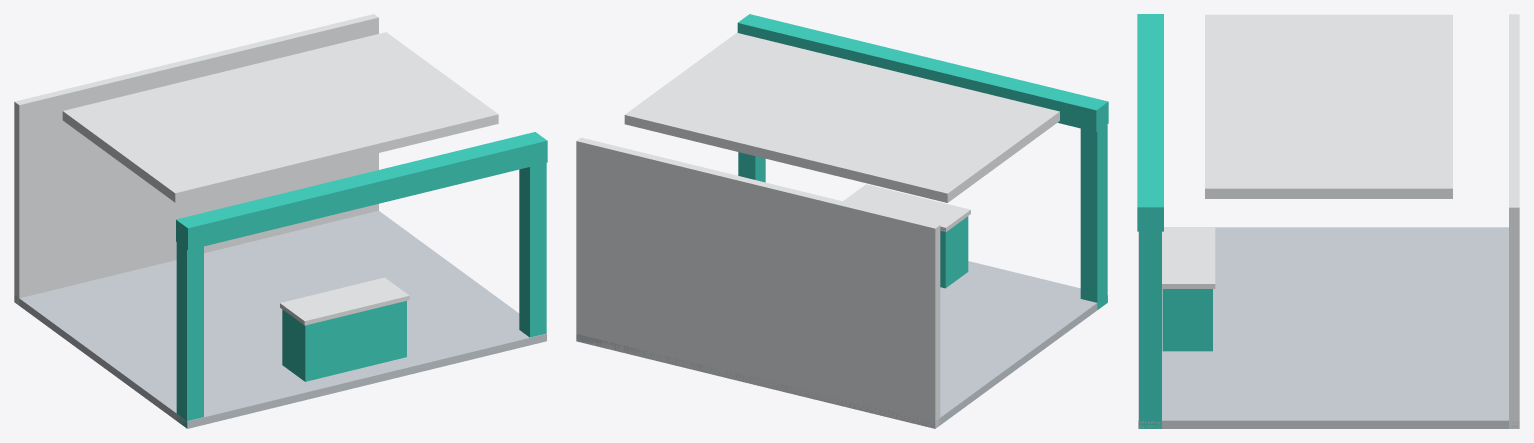
3 views of the same model, side by side, from view 1: azimuth 30°, elevation 25°; view 2: azimuth 150°, elevation 25°; view 3: azimuth 270°, elevation 25° (orthographic). The views are drawn at different scales.
Parts seen in each view (by area): view 1: Exhibition Booth Concept; view 2: Exhibition Booth Concept; view 3: Exhibition Booth Concept.
Boxes of the visible parts, box(x1,y1,x2,y2) form: Exhibition Booth Concept: box(14, 14, 547, 428); Exhibition Booth Concept: box(576, 14, 1108, 428); Exhibition Booth Concept: box(1137, 14, 1519, 428).
Size of the model in its own units: 6 by 3.34 by 5.02.
